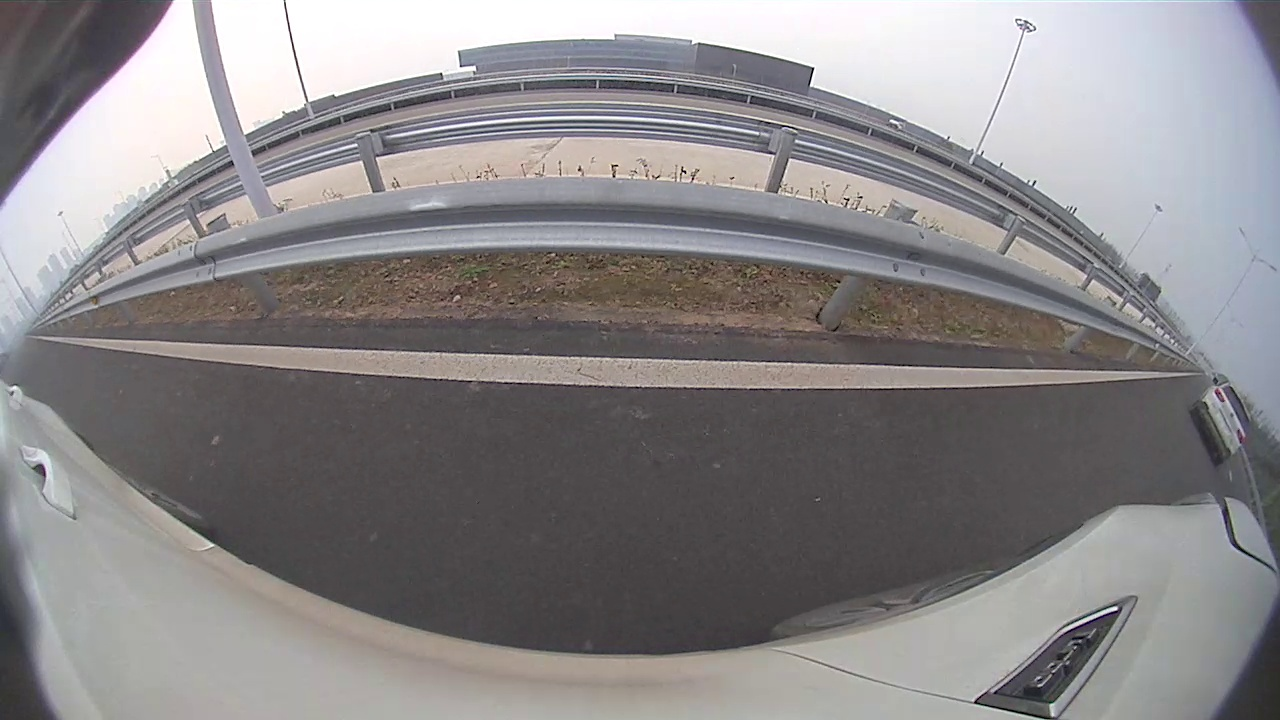car: (328, 144, 509, 256)
front: (488, 187, 504, 218)
rear: (424, 202, 450, 242)
